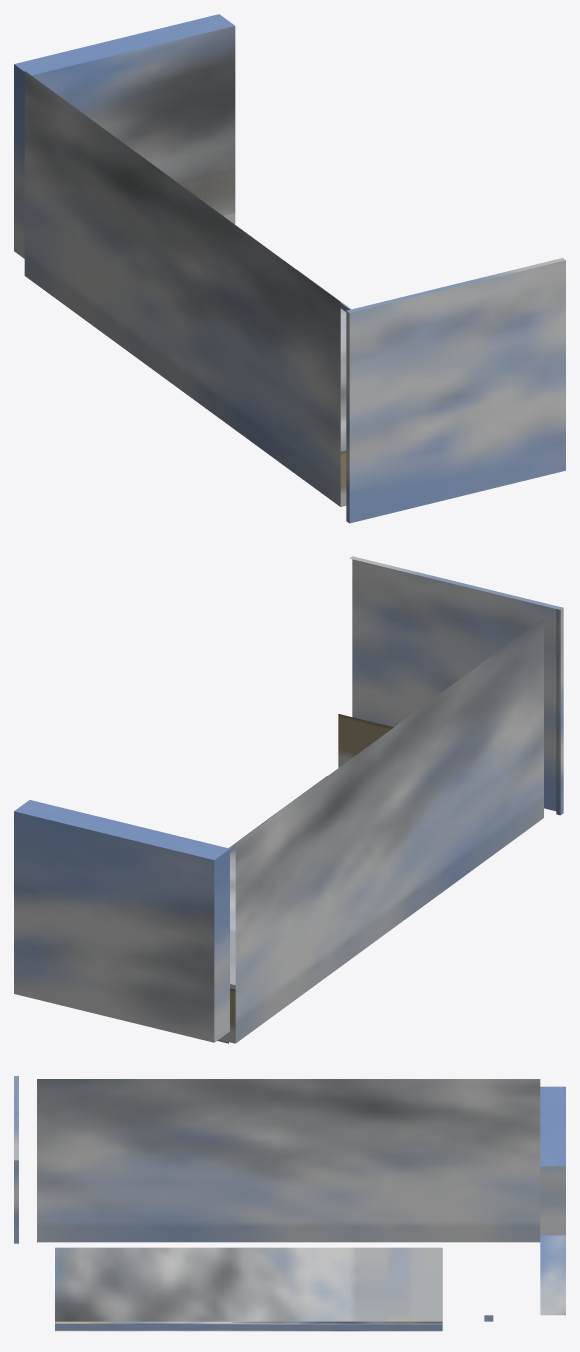
The model's file is section-2.obj.
3 views of the same model, one above another, from view 1: azimuth 30°, elevation 25°; view 2: azimuth 150°, elevation 25°; view 3: azimuth 270°, elevation 25° (orthographic). The views are drawn at different scales.
Bounding box in the file's own units: 0.795 × 0.7685 × 2.15.
